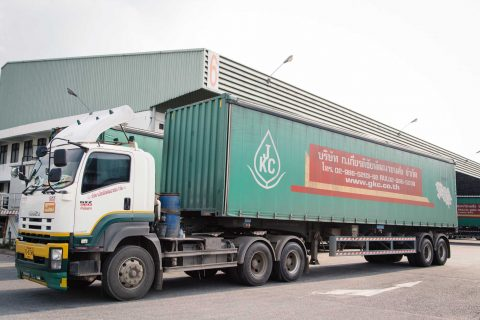truck: (13, 93, 461, 301)
